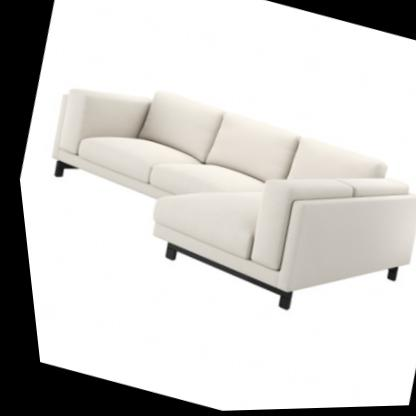Sofa: (7, 51, 416, 350)
